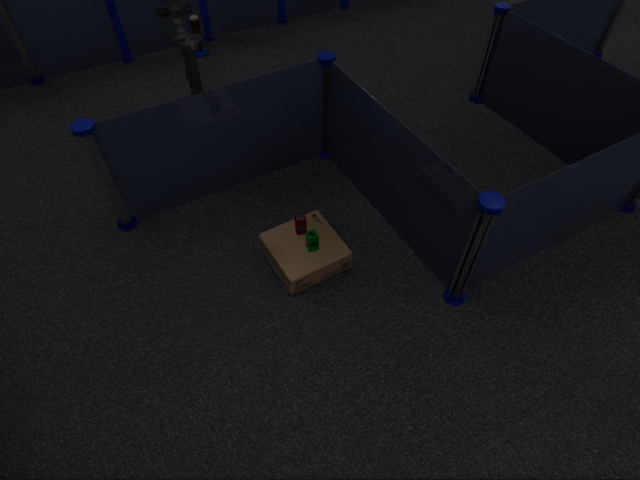puck_green_box: (306, 229, 318, 251)
puck_red_box: (294, 213, 306, 234)
